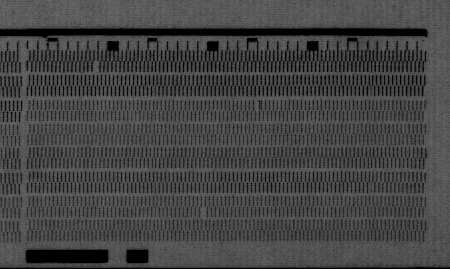Broken hole: (90, 61, 103, 73), (198, 206, 209, 217)
Oblique printing: (253, 101, 263, 115)
